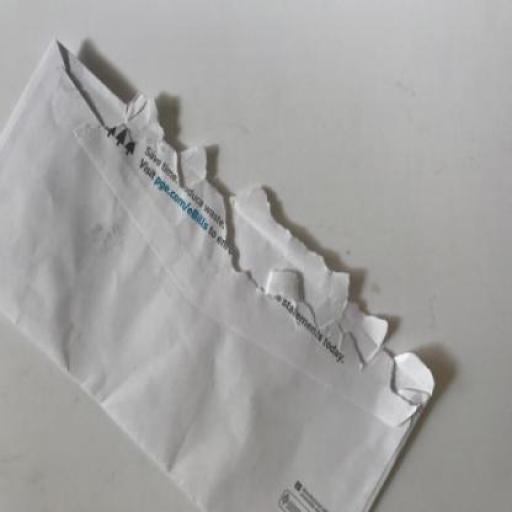paper: (0, 37, 434, 511)
